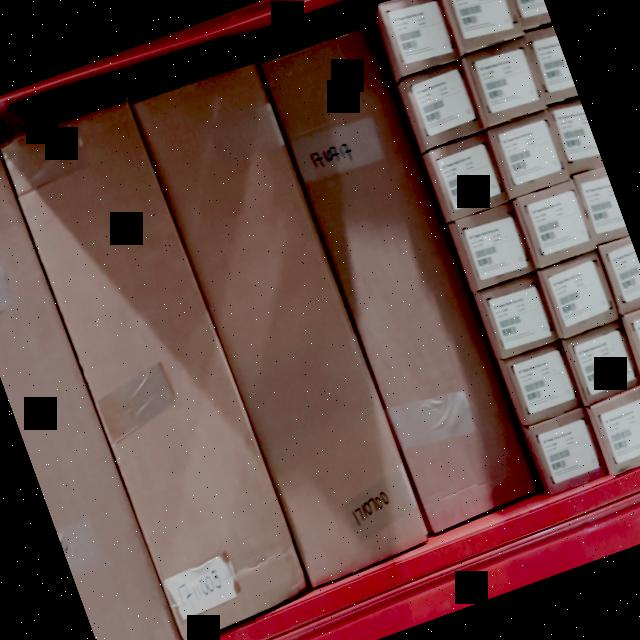box: (3, 101, 308, 638), (140, 62, 433, 589), (261, 22, 543, 530), (518, 183, 596, 268), (542, 254, 619, 339), (470, 40, 547, 124), (434, 132, 508, 216), (408, 61, 481, 142), (497, 116, 571, 194), (567, 326, 640, 405), (508, 344, 580, 422), (462, 209, 532, 285), (487, 278, 556, 355), (385, 0, 455, 71), (536, 414, 604, 486), (446, 0, 523, 48), (596, 396, 640, 469)
